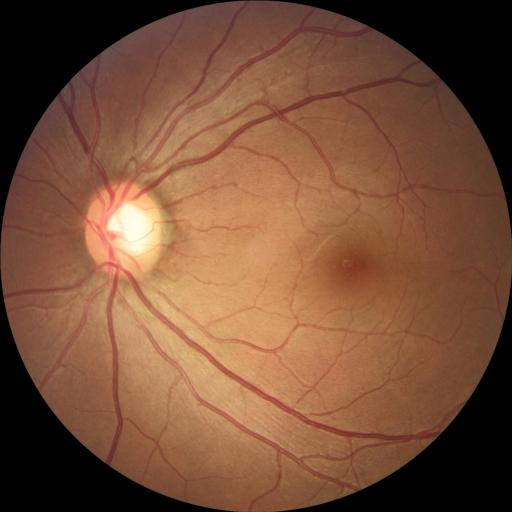Optic Cup: (106, 202, 150, 253)
Optic Disc: (85, 183, 162, 279)
